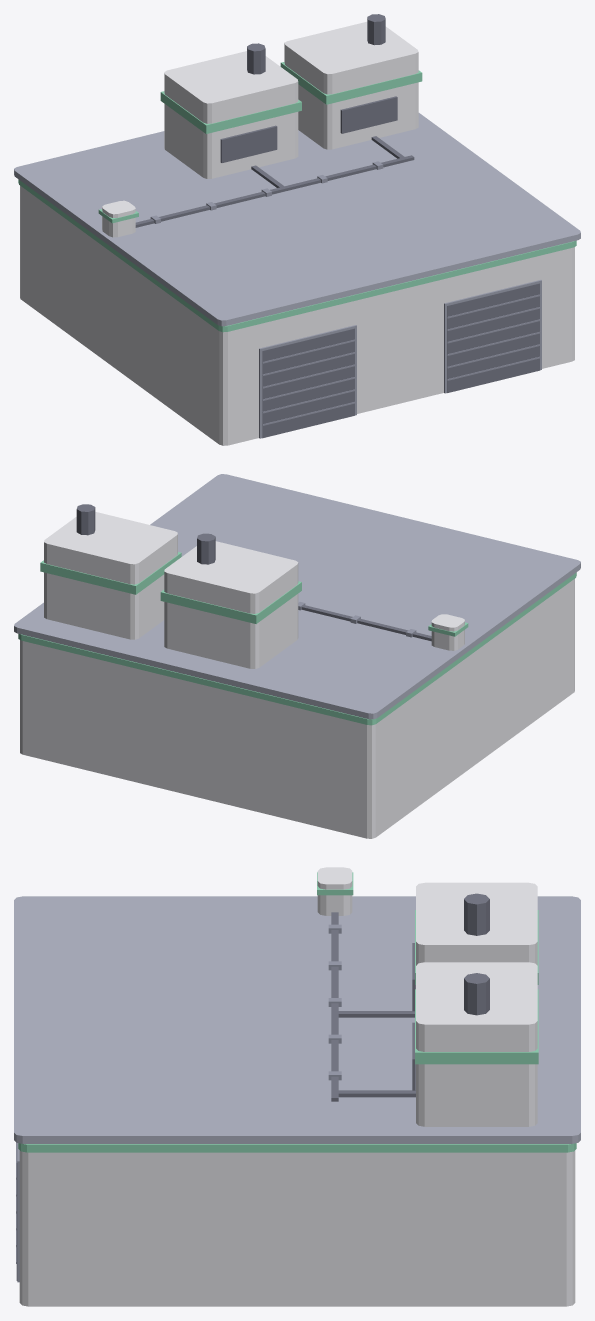
File: backup-2x2-t2.glb
The picture shows the model from 3 angles, top to bottom: view 1: azimuth 30°, elevation 25°; view 2: azimuth 150°, elevation 25°; view 3: azimuth 270°, elevation 25°; orthographic projection. The views are drawn at different scales.
Visible parts, largest first — view 1: backup-2x2-t2; view 2: backup-2x2-t2; view 3: backup-2x2-t2.
Boxes of the visible parts, x1=… form: backup-2x2-t2: x1=14, y1=14, x2=580, y2=445; backup-2x2-t2: x1=14, y1=474, x2=580, y2=838; backup-2x2-t2: x1=14, y1=867, x2=580, y2=1306.
Bounding box in the file's own units: 1.96 × 1.17 × 1.96.
Materials: 1 (1 with a texture image).
